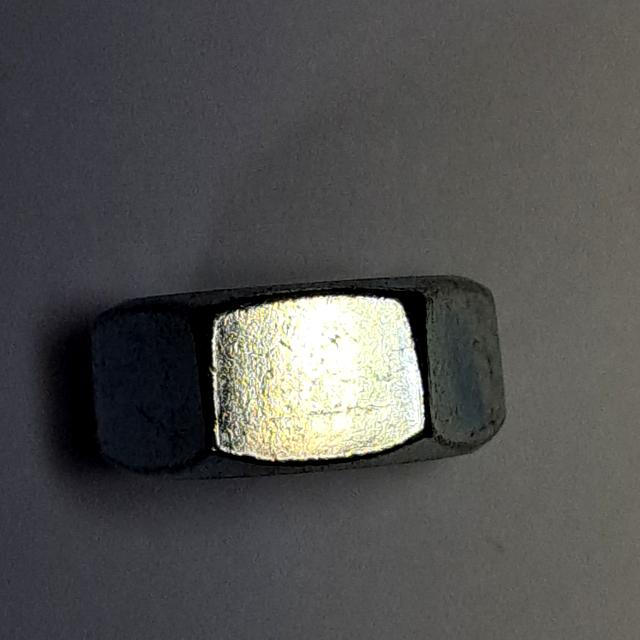Side_Excellent: (77, 250, 521, 495)
